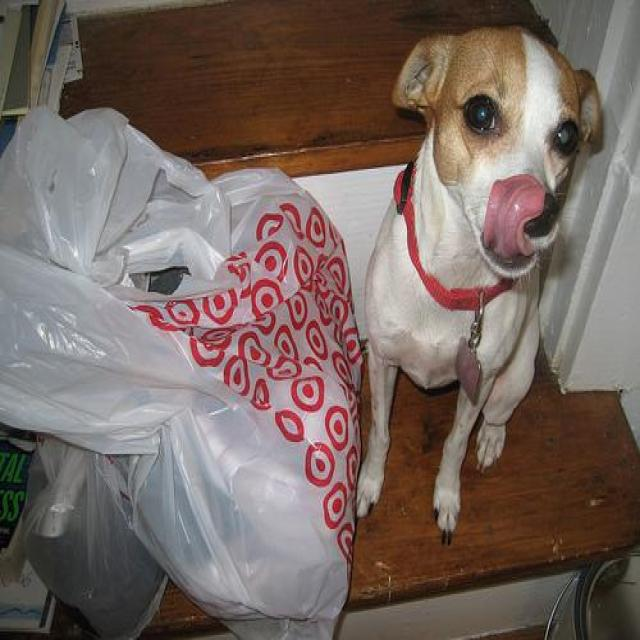toy_terrier: (354, 24, 606, 544)
